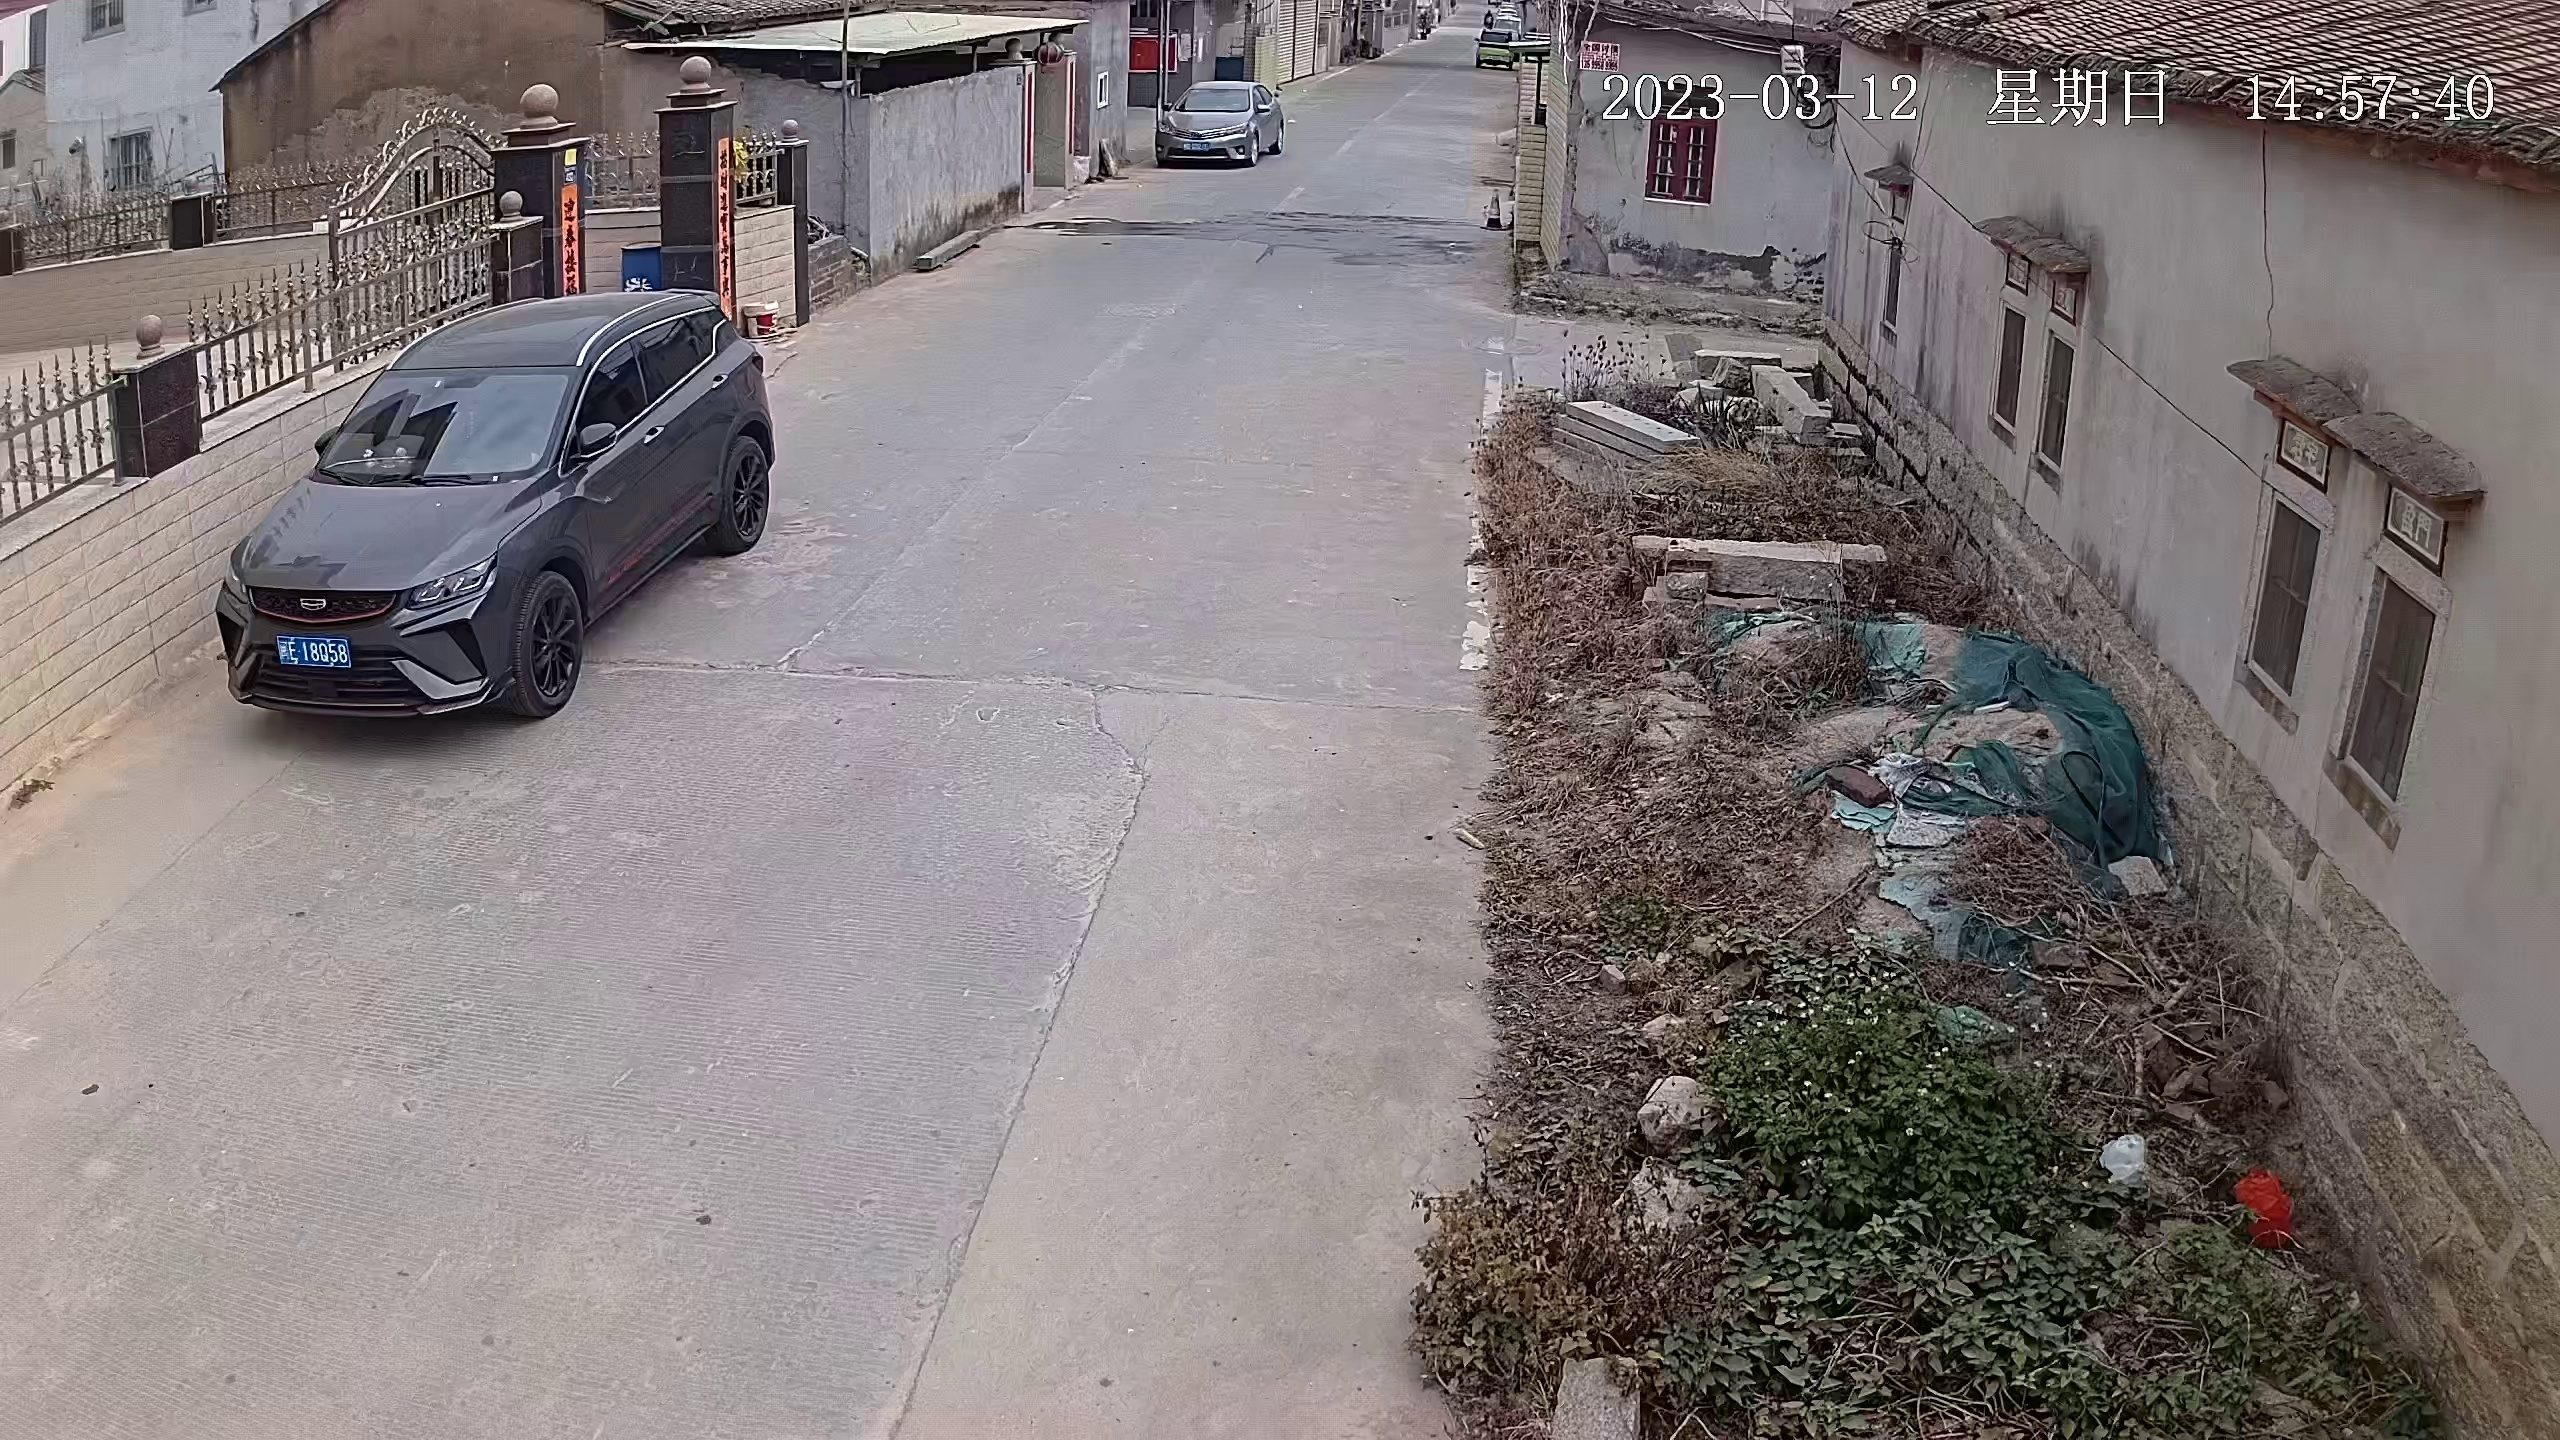sedan: (1153, 76, 1289, 174), (1473, 23, 1519, 74)
suv: (230, 294, 768, 731)
